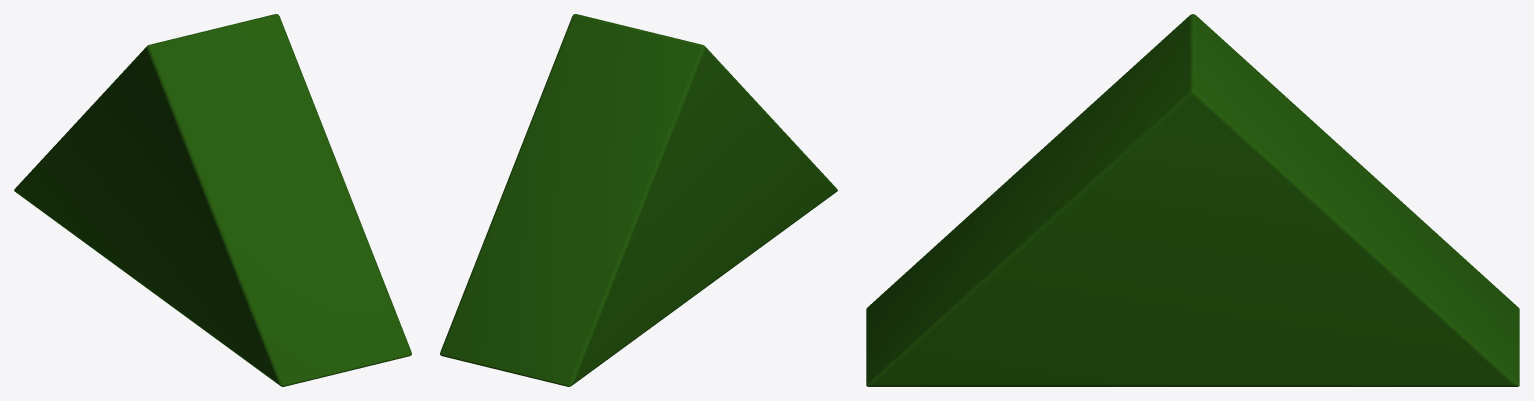
The model's file is Dach.fbx.
3 renders of one model, left to right at view 1: azimuth 30°, elevation 25°; view 2: azimuth 150°, elevation 25°; view 3: azimuth 270°, elevation 25°, orthographic. The views are drawn at different scales.
Parts seen in each view (by area): view 1: Dach; view 2: Dach; view 3: Dach.
Part boxes in pixels (<box>): Dach: <box>14,14,411,386</box>; Dach: <box>440,14,837,386</box>; Dach: <box>866,14,1519,386</box>.
Bounding box in the file's own units: 20.05 × 35.15 × 70.11.
